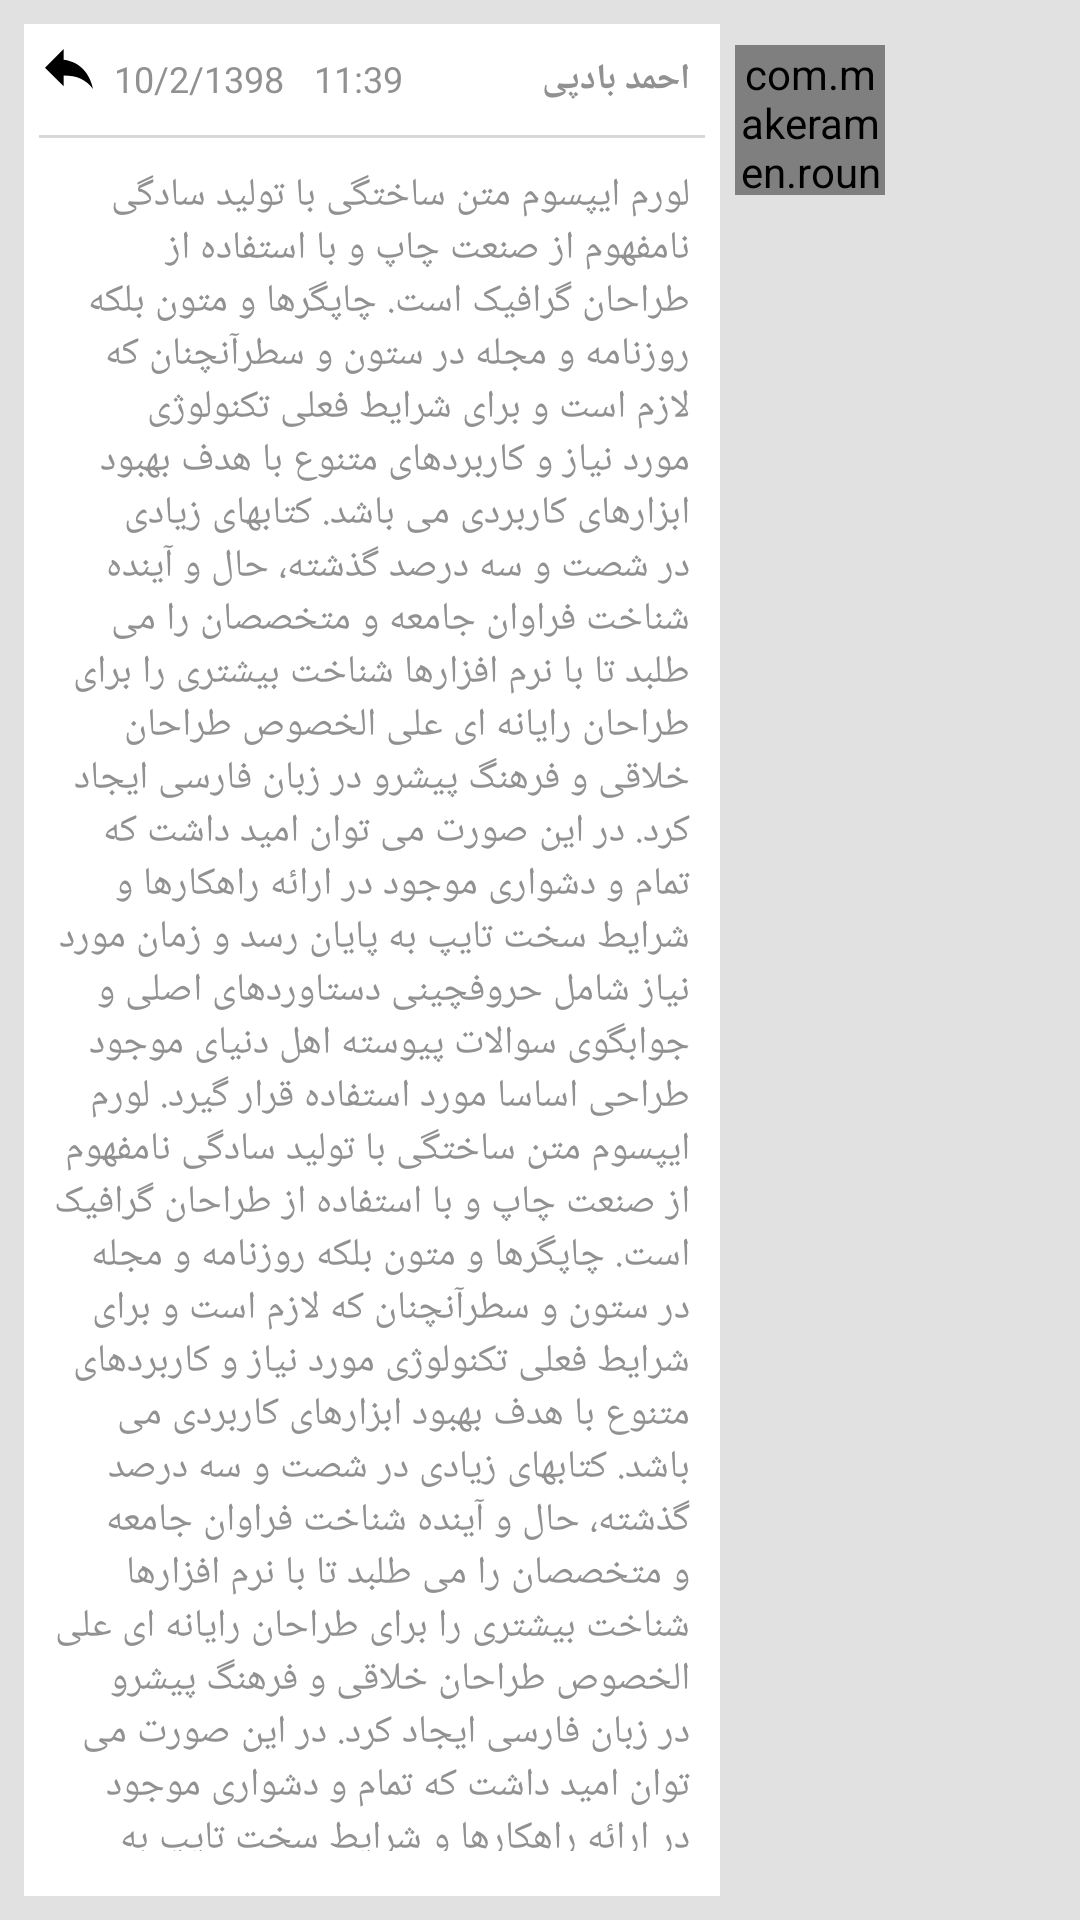

Icons on this 1080px×1920px Android screen, each with its box as (x1, y1, x2, y2):
reply: (45, 49, 93, 89)
